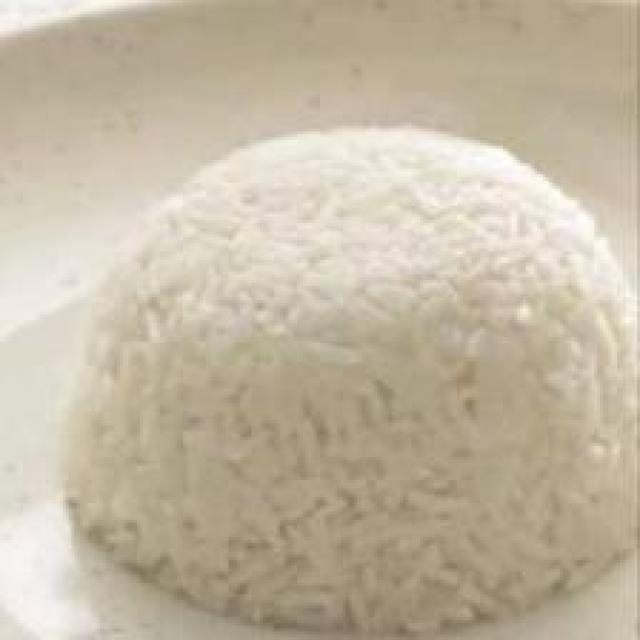Wet Waste: (60, 119, 634, 630)
